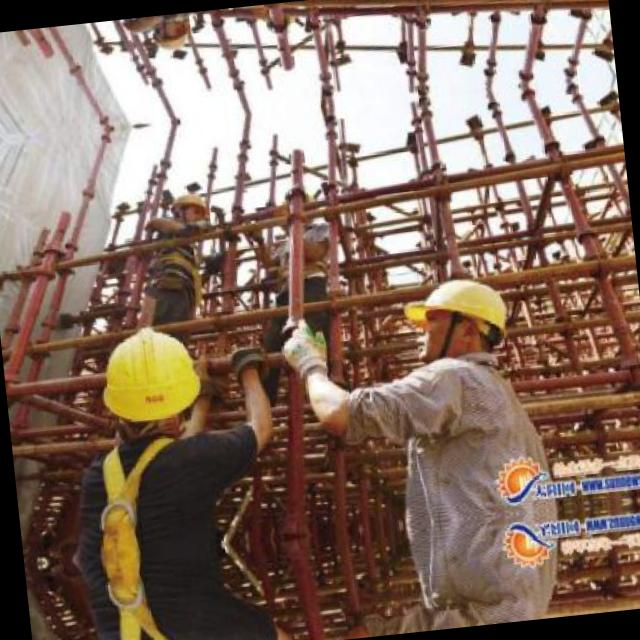helmet: (91, 322, 208, 433), (399, 274, 510, 366), (270, 190, 322, 232), (147, 12, 192, 56), (165, 184, 210, 227), (250, 1, 303, 28)
